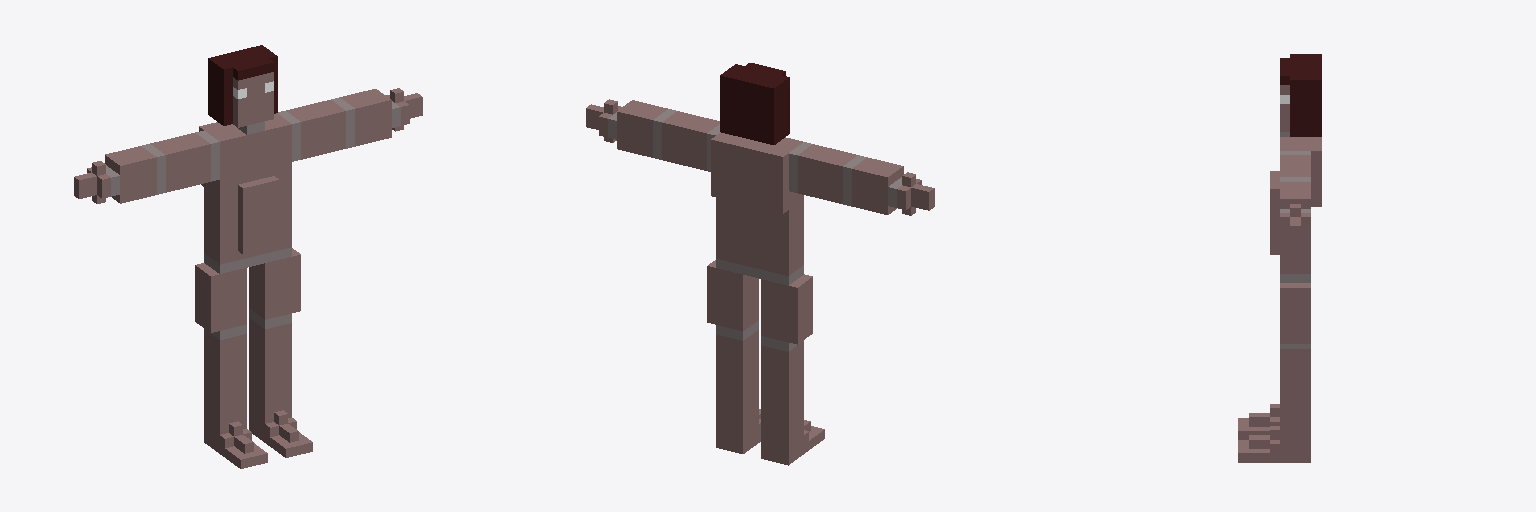
3 renders of one model, left to right at view 1: azimuth 30°, elevation 25°; view 2: azimuth 150°, elevation 25°; view 3: azimuth 270°, elevation 25°, orthographic.
Size of the model in its own units: 38 by 40 by 8.
1 materials, 1 textured.